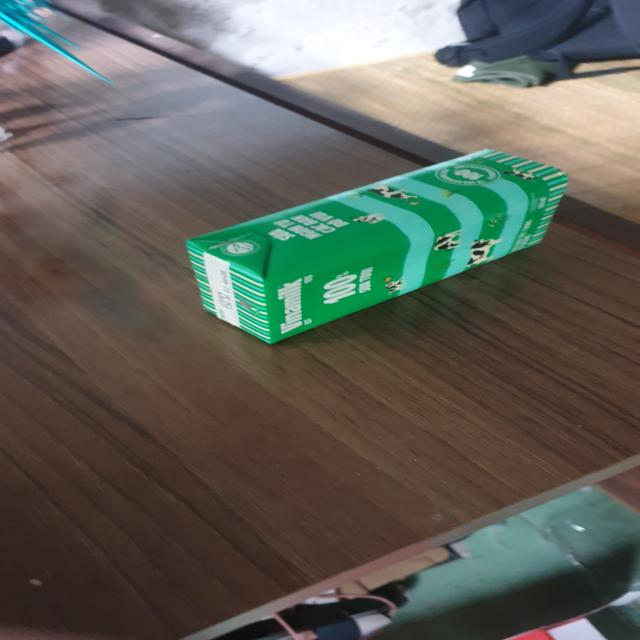Vina: (182, 147, 577, 348)
